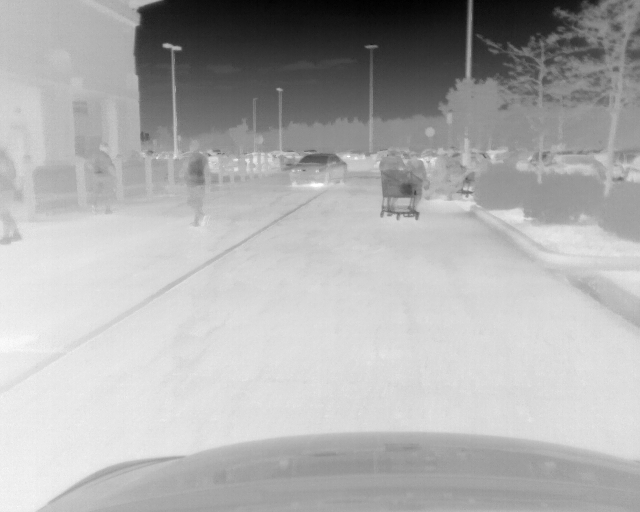car: (290, 153, 348, 186)
people: (182, 149, 208, 228), (1, 146, 21, 245), (88, 144, 113, 214), (403, 151, 428, 218), (380, 148, 402, 215), (428, 151, 445, 201), (446, 151, 463, 200), (473, 150, 491, 194)
